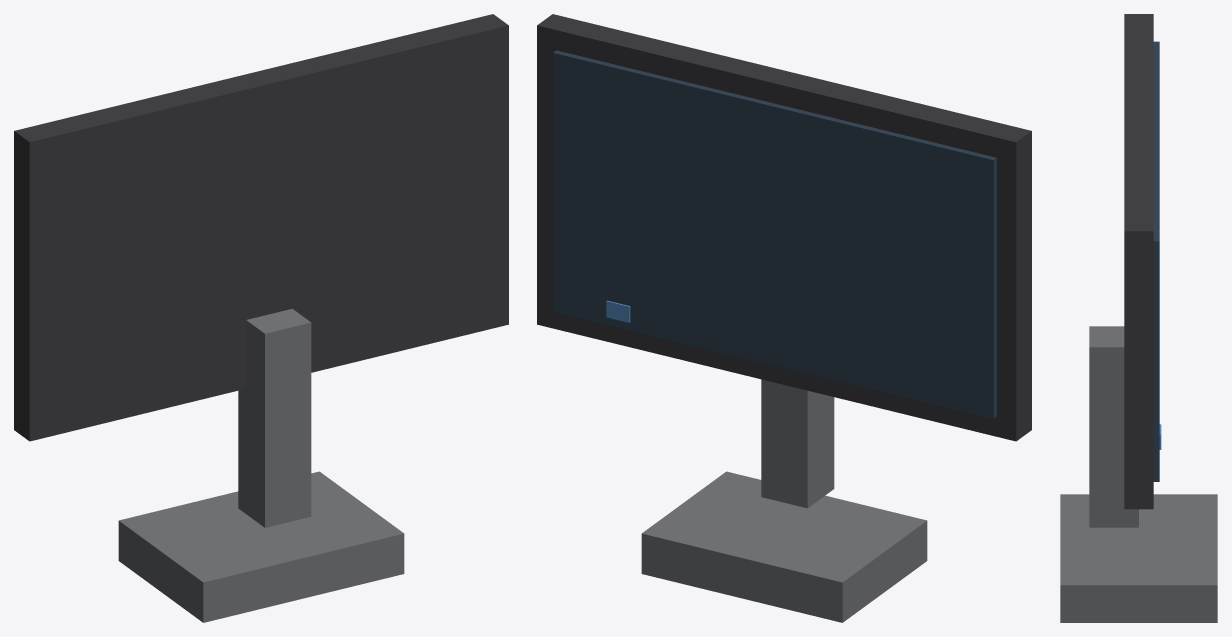
The model's file is eld_monitor_27.glb.
The picture shows the model from 3 angles, left to right: view 1: azimuth 30°, elevation 25°; view 2: azimuth 150°, elevation 25°; view 3: azimuth 270°, elevation 25°; orthographic projection. The views are drawn at different scales.
Visible parts, largest first — view 1: ELD_MONITOR_27_v01; view 2: ELD_MONITOR_27_v01; view 3: ELD_MONITOR_27_v01.
Boxes of the visible parts, left/top/right/bottom form: ELD_MONITOR_27_v01: left=14, top=14, right=508, bottom=622; ELD_MONITOR_27_v01: left=537, top=14, right=1031, bottom=622; ELD_MONITOR_27_v01: left=1060, top=14, right=1217, bottom=622.
Size of the model in its own units: 0.62 by 0.605 by 0.19.
